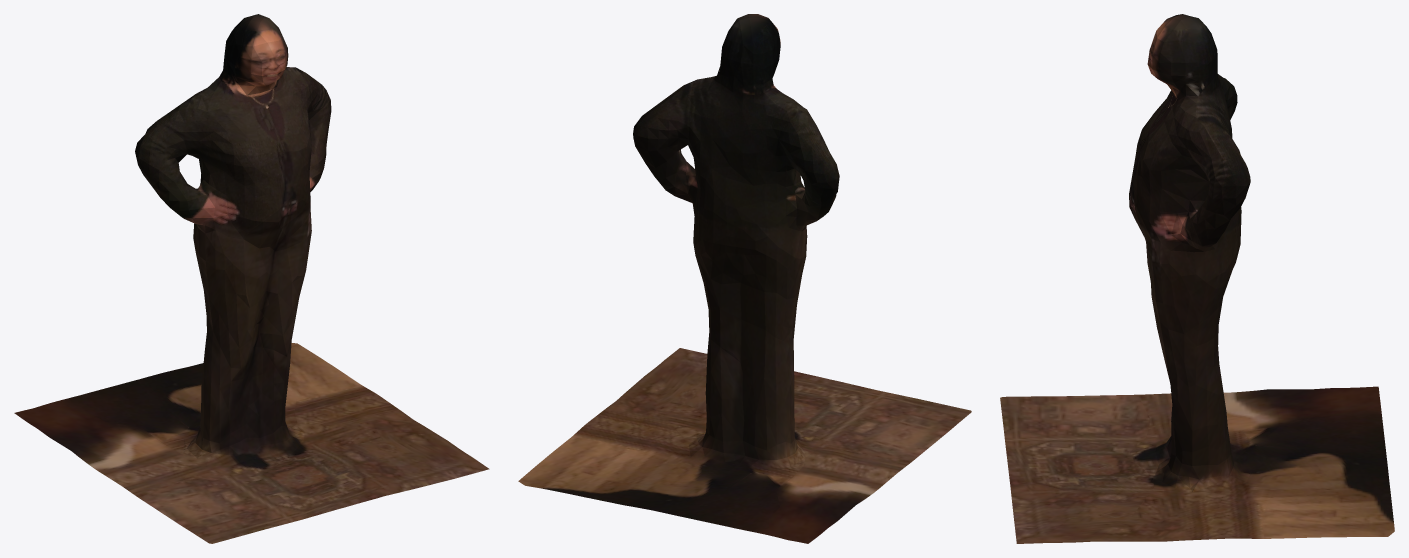
The model's file is mbo_friends_joline.glb.
The picture shows the model from 3 angles, left to right: view 1: azimuth 30°, elevation 25°; view 2: azimuth 150°, elevation 25°; view 3: azimuth 270°, elevation 25°; orthographic projection. The views are drawn at different scales.
Bounding box in the file's own units: 1.25 × 1.71 × 1.36.
Materials: 1 (1 with a texture image).
